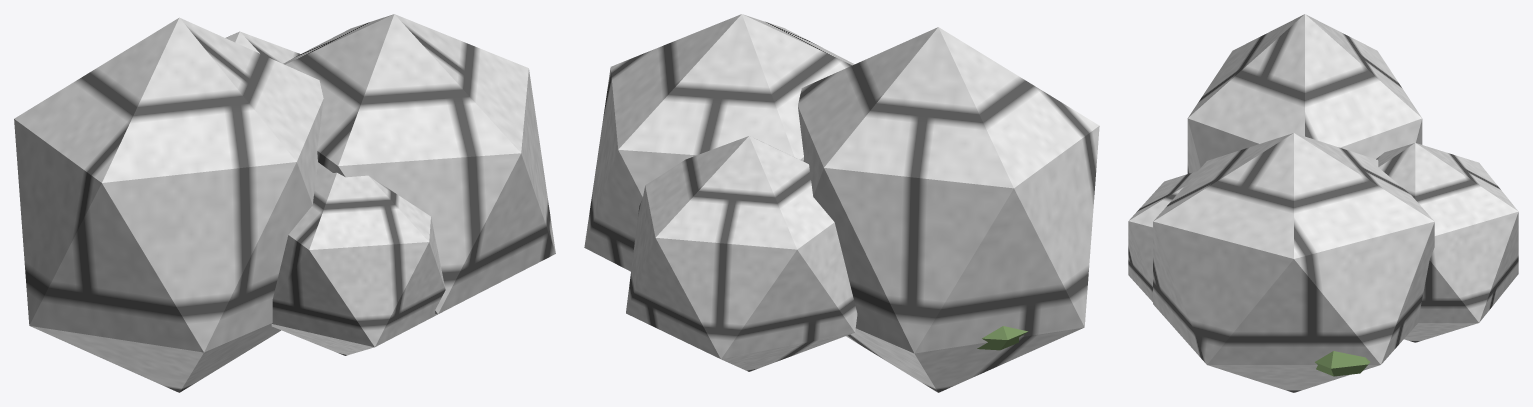
File: rock_cluster.glb
3 views of the same model, side by side, from view 1: azimuth 30°, elevation 25°; view 2: azimuth 150°, elevation 25°; view 3: azimuth 270°, elevation 25° (orthographic). The views are drawn at different scales.
Parts seen in each view (by area): view 1: RockCluster_Geometry; view 2: RockCluster_Geometry; view 3: RockCluster_Geometry.
Boxes of the visible parts, bbox=[...] form: RockCluster_Geometry: bbox=[14, 14, 555, 392]; RockCluster_Geometry: bbox=[584, 14, 1099, 392]; RockCluster_Geometry: bbox=[1128, 14, 1518, 392].
Bounding box in the file's own units: 1.7 × 1.24 × 1.41.
Materials: 3 (2 with a texture image).
